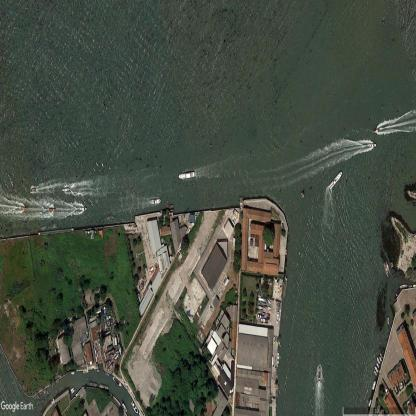ship: (329, 172, 342, 190), (178, 172, 195, 179), (383, 263, 389, 279), (318, 364, 322, 381), (151, 198, 161, 204), (373, 128, 380, 134), (386, 262, 389, 274), (399, 284, 408, 288), (372, 381, 376, 390), (62, 188, 69, 192), (80, 207, 87, 211), (30, 188, 36, 192), (20, 207, 28, 210), (375, 367, 379, 373), (369, 399, 372, 407), (49, 209, 56, 212), (369, 144, 376, 147), (377, 358, 380, 365), (374, 371, 377, 377), (387, 317, 389, 325), (379, 357, 382, 362), (380, 354, 383, 359), (377, 363, 379, 369)
